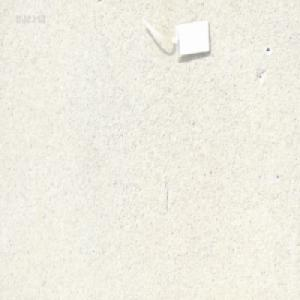LuggageTag: (139, 13, 212, 60)
